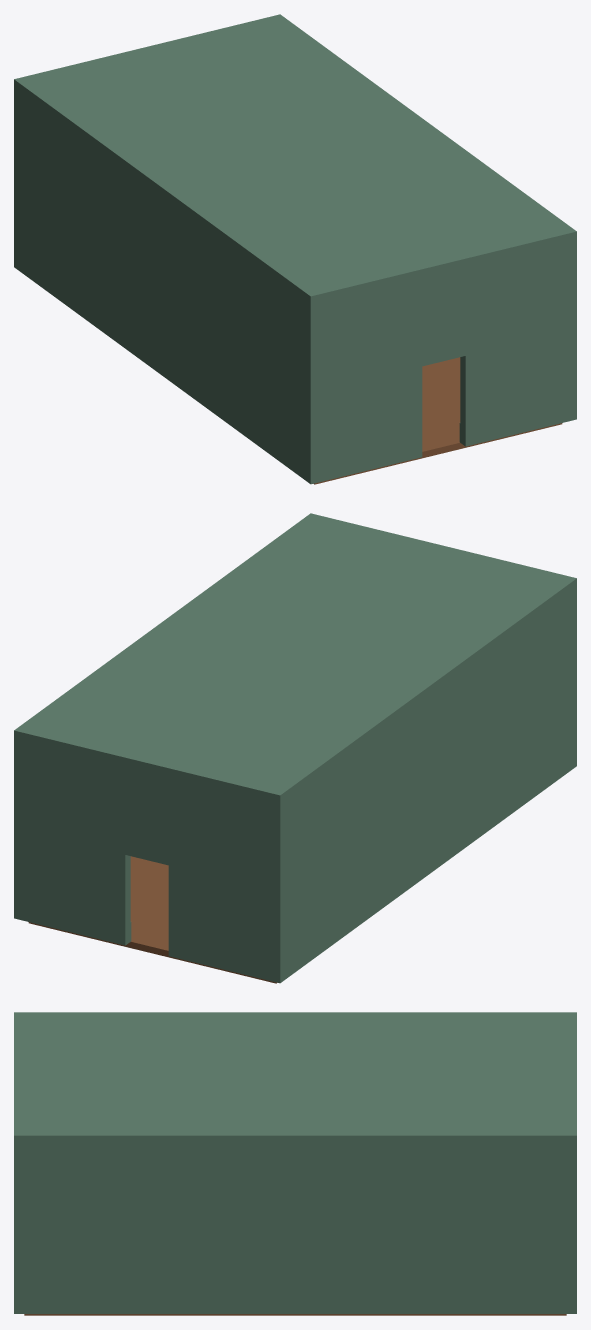
The model's file is exhibition-room.glb.
The picture shows the model from 3 angles, top to bottom: view 1: azimuth 30°, elevation 25°; view 2: azimuth 150°, elevation 25°; view 3: azimuth 270°, elevation 25°; orthographic projection. The views are drawn at different scales.
Parts seen in each view (by area): view 1: Architecture_Room; view 2: Architecture_Room; view 3: Architecture_Room.
Boxes of the visible parts, box(x1,y1,x2,y2) form: Architecture_Room: box(14, 14, 576, 484); Architecture_Room: box(14, 513, 576, 983); Architecture_Room: box(14, 1012, 576, 1315).
Size of what is drawn, in the model's own units: 8.6 by 6 by 16.6.
